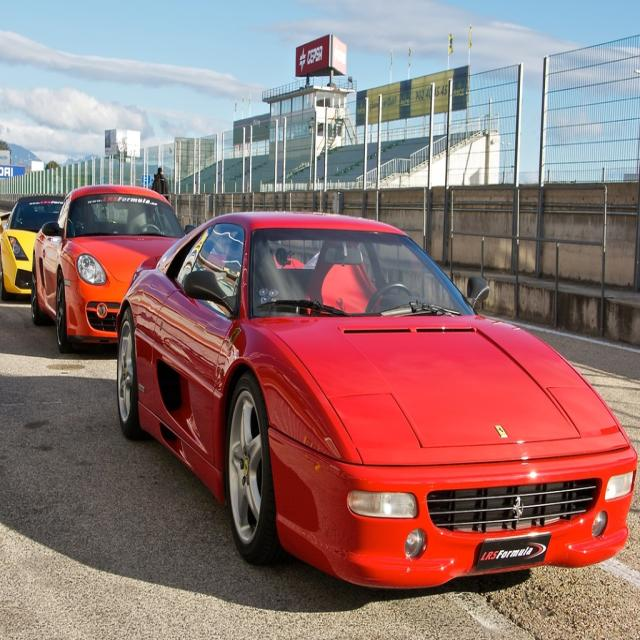Car: (116, 211, 638, 590), (32, 183, 196, 355), (0, 194, 66, 303)
